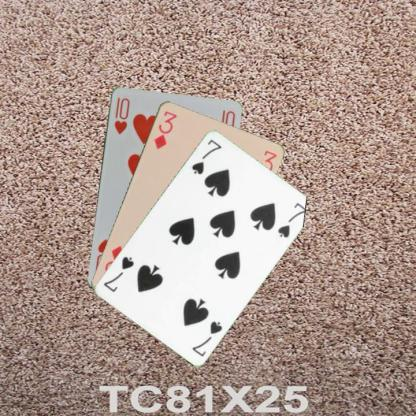10h: (112, 94, 130, 135)
3d: (151, 108, 178, 150)
7s: (189, 317, 224, 358), (189, 136, 223, 176)
